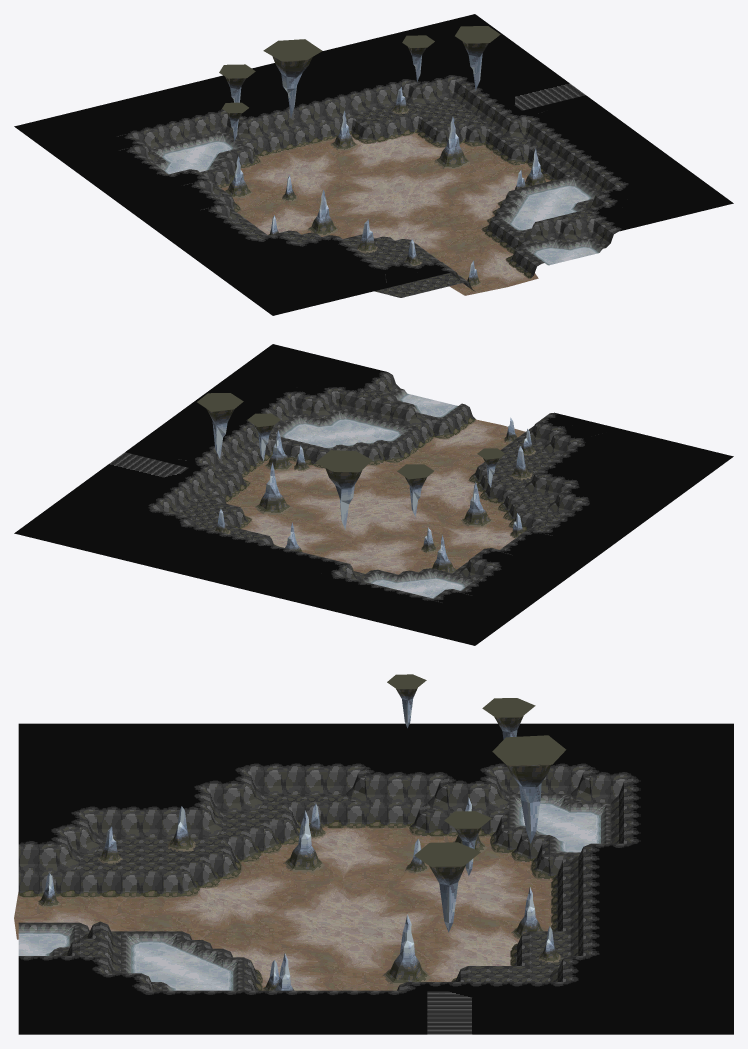
Rendered from ICECHASM1-1.obj.
3 renders of one model, top to bottom at view 1: azimuth 30°, elevation 25°; view 2: azimuth 150°, elevation 25°; view 3: azimuth 270°, elevation 25°, orthographic. The views are drawn at different scales.
Visible parts, largest first — view 1: polygon8, polygon10, polygon2, polygon12, polygon0, polygon1, polygon5, polygon11, polygon3, polygon9, polygon4, polygon7 (+1 smaller); view 2: polygon8, polygon10, polygon0, polygon12, polygon2, polygon1, polygon11, polygon5, polygon3, polygon9, polygon4, polygon7 (+1 smaller); view 3: polygon8, polygon10, polygon2, polygon12, polygon0, polygon5, polygon1, polygon11, polygon3, polygon9, polygon4, polygon7 (+1 smaller).
Part boxes in pixels (x1,y1,x2,y2): polygon8: [14, 14, 733, 315]; polygon10: [243, 133, 538, 286]; polygon2: [136, 81, 617, 281]; polygon12: [221, 137, 550, 295]; polygon0: [219, 26, 546, 286]; polygon1: [128, 76, 624, 282]; polygon5: [206, 117, 567, 291]; polygon11: [262, 137, 517, 277]; polygon3: [153, 98, 595, 297]; polygon9: [165, 142, 595, 264]; polygon4: [149, 132, 605, 266]; polygon7: [153, 134, 602, 264]; polygon8: [14, 344, 733, 645]; polygon10: [241, 419, 514, 574]; polygon0: [197, 393, 535, 573]; polygon12: [226, 425, 525, 573]; polygon2: [158, 375, 580, 580]; polygon1: [150, 372, 588, 599]; polygon11: [255, 428, 509, 568]; polygon5: [215, 407, 539, 546]; polygon3: [178, 388, 563, 580]; polygon9: [285, 394, 462, 597]; polygon4: [269, 388, 475, 581]; polygon7: [274, 389, 473, 587]; polygon8: [18, 723, 733, 1034]; polygon10: [14, 826, 550, 990]; polygon2: [18, 772, 623, 990]; polygon12: [14, 826, 553, 990]; polygon0: [38, 674, 566, 990]; polygon5: [18, 808, 562, 990]; polygon1: [18, 767, 631, 991]; polygon11: [59, 834, 516, 990]; polygon3: [59, 794, 589, 990]; polygon9: [18, 805, 595, 990]; polygon4: [18, 794, 611, 990]; polygon7: [18, 796, 606, 990].
Size of the model in its own units: 9 by 2 by 8.81.
13 materials, 13 textured.
